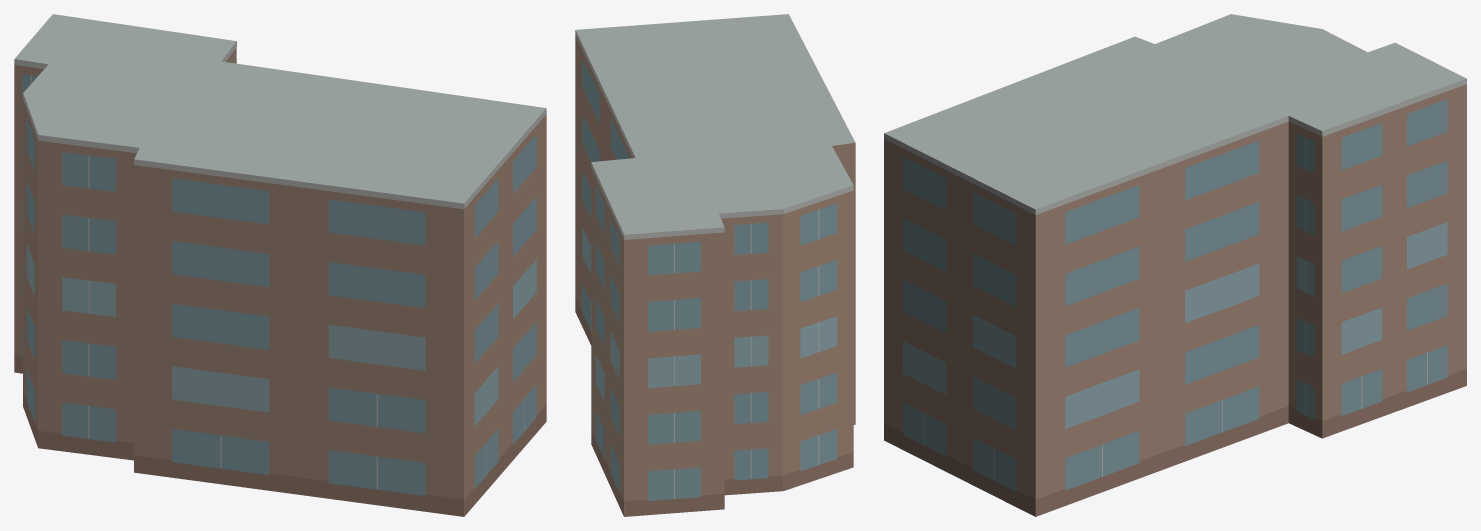
File: survey-upis-32780948.glb
3 renders of one model, left to right at view 1: azimuth 30°, elevation 25°; view 2: azimuth 150°, elevation 25°; view 3: azimuth 270°, elevation 25°, orthographic. The views are drawn at different scales.
Parts seen in each view (by area): view 1: survey-upis-32780948.tmp; view 2: survey-upis-32780948.tmp; view 3: survey-upis-32780948.tmp.
Boxes of the visible parts, x1,y1,x2,y2 form: survey-upis-32780948.tmp: (14, 14, 546, 516); survey-upis-32780948.tmp: (575, 14, 855, 516); survey-upis-32780948.tmp: (884, 14, 1466, 516).
Size of the model in its own units: 18.31 by 13.4 by 23.04.
